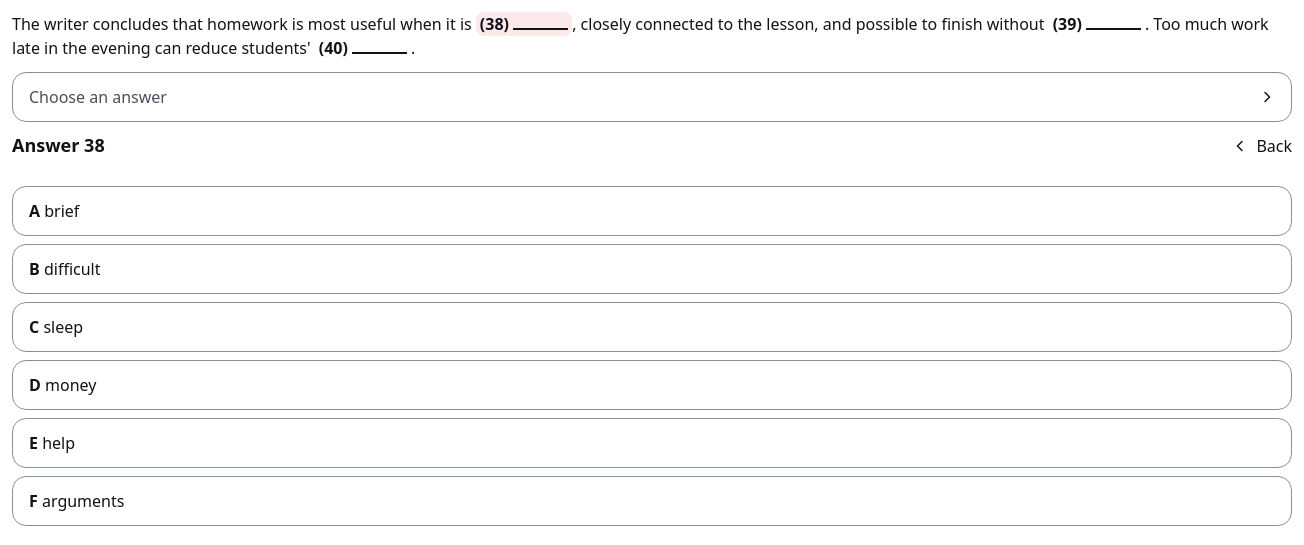
Scenario: choose from a list › shows a word-box summary with its gaps, the current one marked, filled with the chosen word
The width and height of the screenshot is (1304, 545).
Check: the text "(38)" is shown, box [476,12,572,36]
Click the button "A brief": [62, 211] box [12,186,1292,236]
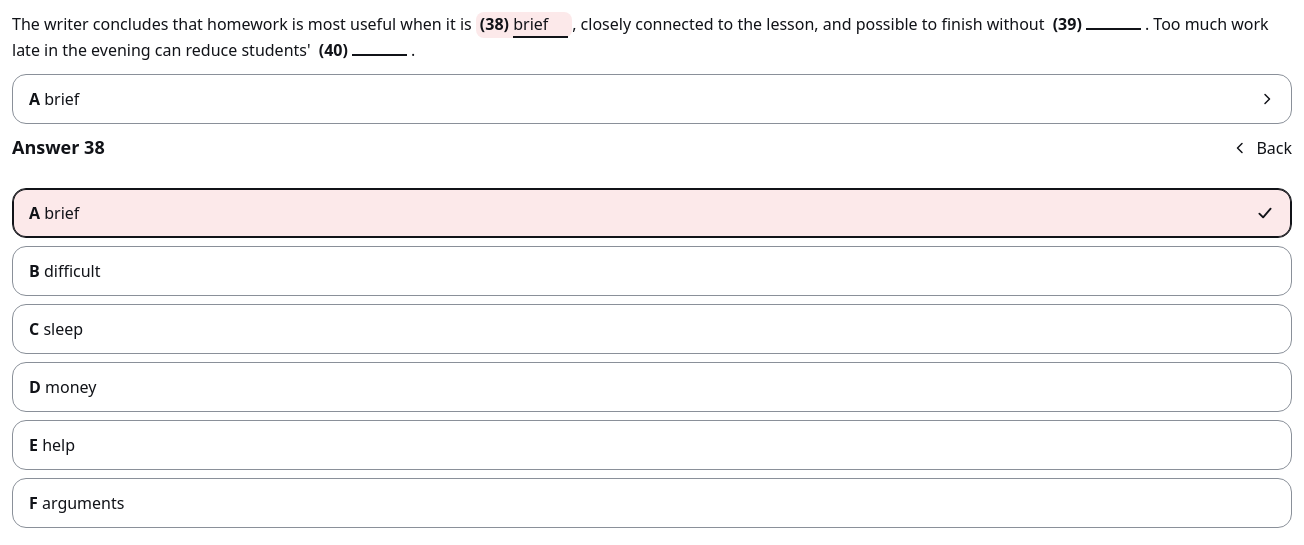
Check: the text "(38)" shows "brief", box [513,13,548,35]
